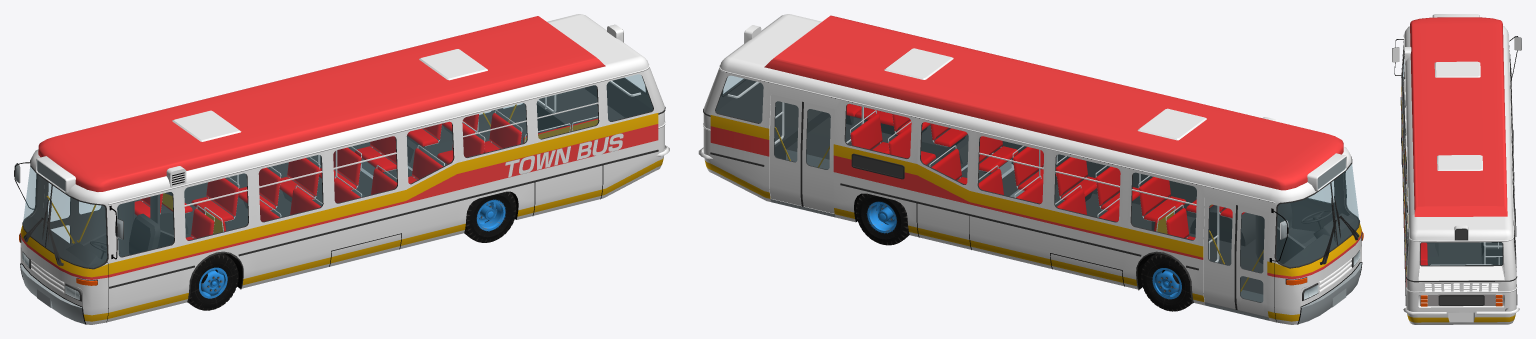
The model's file is generic_town_bus_rotated.glb.
3 renders of one model, left to right at view 1: azimuth 30°, elevation 25°; view 2: azimuth 150°, elevation 25°; view 3: azimuth 270°, elevation 25°, orthographic. The views are drawn at different scales.
Visible parts, largest first — view 1: Object_25, Object_34, Object_16, Object_24, Object_33, Object_22, Object_27, Object_23, Object_11, Object_14, Object_26, Object_32 (+5 smaller); view 2: Object_25, Object_34, Object_16, Object_24, Object_22, Object_33, Object_27, Object_23, Object_17, Object_10, Object_12, Object_26 (+5 smaller); view 3: Object_34, Object_25, Object_22, Object_16, Object_32, Object_23, Object_33, Object_26, Object_28, Object_4, Object_9, Object_27 (+2 smaller).
Part boxes in pixels (left/top/right/bottom): Object_25: left=20, top=14, right=664, bottom=324; Object_34: left=20, top=16, right=658, bottom=279; Object_16: left=22, top=74, right=652, bottom=299; Object_24: left=134, top=113, right=598, bottom=240; Object_33: left=20, top=113, right=663, bottom=321; Object_22: left=14, top=75, right=653, bottom=301; Object_27: left=29, top=78, right=653, bottom=261; Object_23: left=22, top=29, right=665, bottom=302; Object_11: left=189, top=253, right=238, bottom=310; Object_14: left=464, top=191, right=516, bottom=242; Object_26: left=36, top=81, right=640, bottom=286; Object_32: left=108, top=64, right=669, bottom=204; Object_25: left=703, top=14, right=1361, bottom=324; Object_34: left=710, top=15, right=1361, bottom=279; Object_16: left=716, top=76, right=1359, bottom=302; Object_24: left=846, top=104, right=1244, bottom=239; Object_22: left=715, top=77, right=1362, bottom=302; Object_33: left=705, top=115, right=1361, bottom=321; Object_27: left=716, top=79, right=1352, bottom=317; Object_23: left=703, top=32, right=1359, bottom=309; Object_17: left=770, top=149, right=1361, bottom=324; Object_10: left=1141, top=253, right=1192, bottom=311; Object_12: left=856, top=193, right=909, bottom=245; Object_26: left=727, top=81, right=1346, bottom=286; Object_34: left=1401, top=17, right=1507, bottom=286; Object_25: left=1401, top=26, right=1516, bottom=324; Object_22: left=1392, top=47, right=1516, bottom=271; Object_16: left=1403, top=64, right=1502, bottom=265; Object_32: left=1403, top=34, right=1519, bottom=314; Object_23: left=1400, top=41, right=1517, bottom=305; Object_33: left=1401, top=87, right=1515, bottom=322; Object_26: left=1404, top=14, right=1511, bottom=265; Object_28: left=1403, top=94, right=1483, bottom=304; Object_4: left=1420, top=294, right=1503, bottom=306; Object_9: left=1392, top=37, right=1521, bottom=241; Object_27: left=1402, top=53, right=1513, bottom=245.
Bounding box in the file's own units: 131 × 32.36 × 31.81.
Materials: 20 (3 with a texture image).
